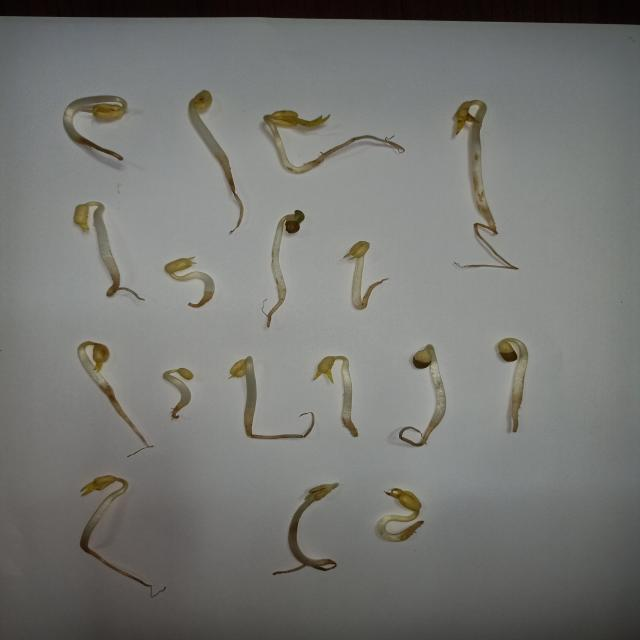leaf: (273, 110, 333, 129), (382, 485, 422, 510), (310, 355, 332, 381), (78, 475, 114, 490), (93, 103, 124, 120), (72, 205, 90, 232), (345, 240, 370, 258), (451, 100, 467, 127), (196, 88, 214, 111), (285, 213, 304, 232), (496, 342, 515, 361), (312, 482, 332, 500), (164, 258, 193, 269), (94, 344, 108, 364), (414, 351, 428, 371), (232, 359, 244, 380), (178, 368, 192, 379)
root: (76, 544, 177, 601), (455, 217, 519, 277), (106, 395, 153, 457), (214, 177, 252, 236), (324, 136, 407, 163), (72, 138, 126, 163), (101, 276, 146, 304), (400, 425, 444, 453), (256, 298, 290, 329), (243, 428, 311, 442), (364, 277, 390, 312), (181, 293, 223, 311), (507, 402, 526, 435), (405, 522, 430, 544), (342, 424, 363, 439), (169, 409, 184, 421), (327, 558, 339, 571)
stem: (260, 116, 320, 178), (78, 478, 130, 543), (189, 100, 232, 176), (59, 92, 129, 138), (289, 482, 327, 565), (469, 99, 493, 216), (426, 343, 458, 424), (90, 200, 122, 275), (76, 341, 114, 394), (504, 338, 532, 402), (271, 215, 288, 297), (336, 355, 356, 424), (167, 271, 221, 293), (162, 369, 191, 409), (340, 257, 363, 307), (370, 511, 402, 543), (245, 356, 257, 427)
